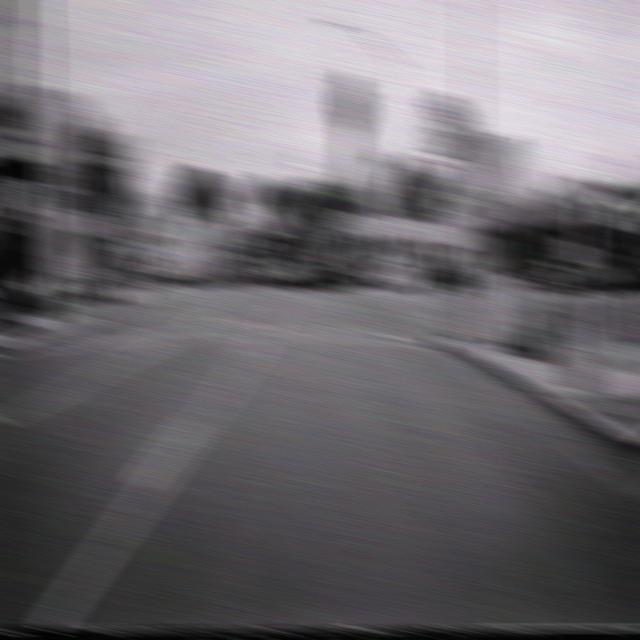pedestrianCrossing: (454, 134, 490, 184)
